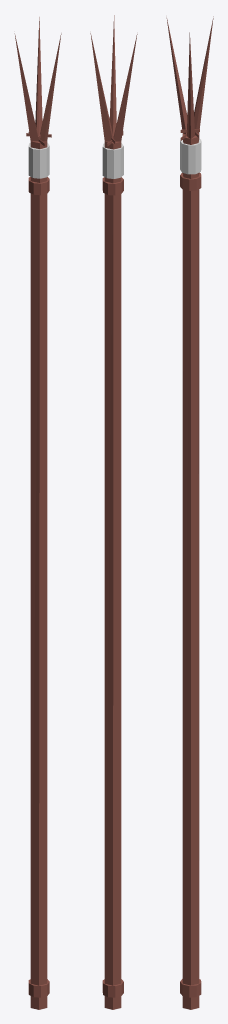
File: FishingSpear_2.fbx
3 views of the same model, side by side, from view 1: azimuth 30°, elevation 25°; view 2: azimuth 150°, elevation 25°; view 3: azimuth 330°, elevation 25° (orthographic).
Visible parts, largest first — view 1: polySurface8, polySurface9, polySurface13, polySurface11; view 2: polySurface8, polySurface9, polySurface11, polySurface13; view 3: polySurface8, polySurface9, polySurface13, polySurface11.
Boxes of the visible parts, x1,y1,x2,y2 form: polySurface8: (14, 17, 61, 1009); polySurface9: (28, 142, 49, 178); polySurface13: (28, 979, 49, 997); polySurface11: (28, 177, 49, 195); polySurface8: (90, 15, 137, 1009); polySurface9: (102, 143, 123, 178); polySurface11: (102, 177, 123, 195); polySurface13: (102, 979, 123, 997); polySurface8: (166, 16, 213, 1009); polySurface9: (180, 138, 201, 174); polySurface13: (180, 979, 201, 997); polySurface11: (180, 172, 201, 190).
Bounding box in the file's own units: 0.6567 × 16.98 × 0.7231.
